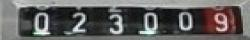digits: (32, 12, 50, 35), (178, 10, 194, 30), (71, 12, 87, 32), (108, 13, 122, 33), (142, 12, 158, 29), (213, 12, 227, 31)
